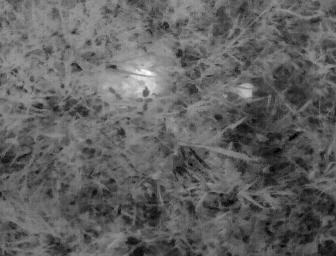landmine: (99, 54, 176, 108)
